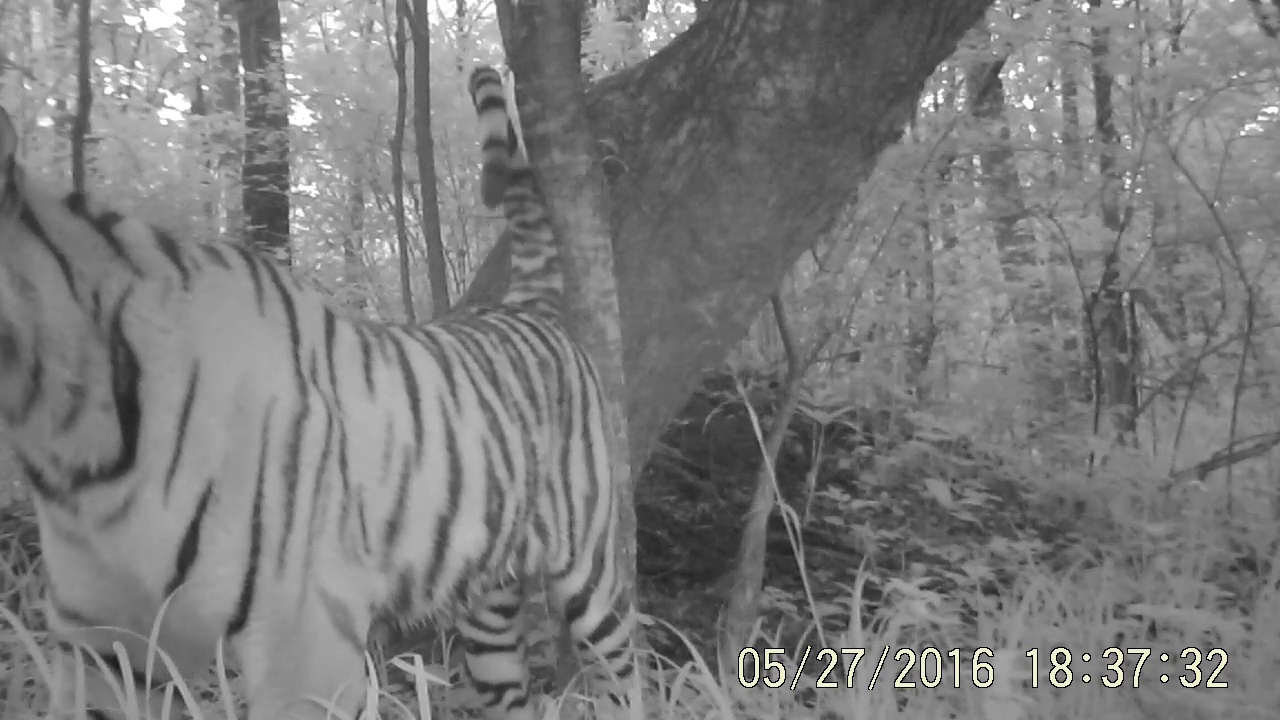Tiger: (2, 13, 716, 718)
